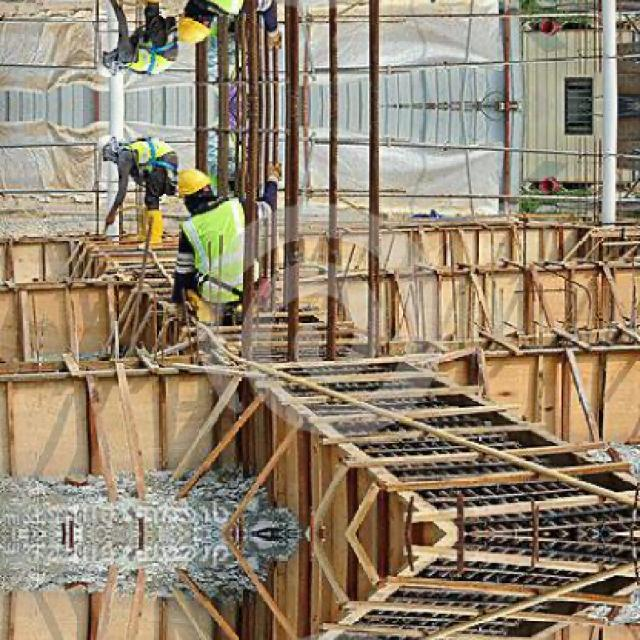con casco: (155, 178, 243, 234), (80, 126, 142, 166), (174, 16, 214, 52)
